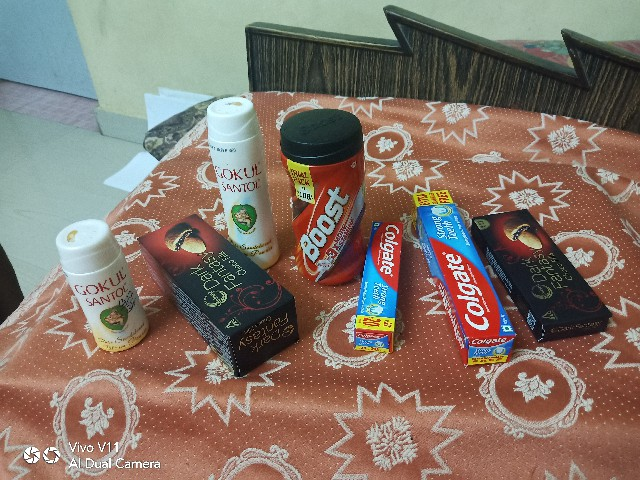boost small: (280, 100, 366, 280)
colgatetoothpaste big: (411, 184, 516, 388)
colgatetoothpaste small: (351, 213, 412, 370)
darkfantasy big: (135, 207, 311, 382)
darkfantasy small: (475, 197, 609, 340)
gokulsantol big: (205, 90, 283, 269)
gokulsantol small: (32, 207, 143, 358)
